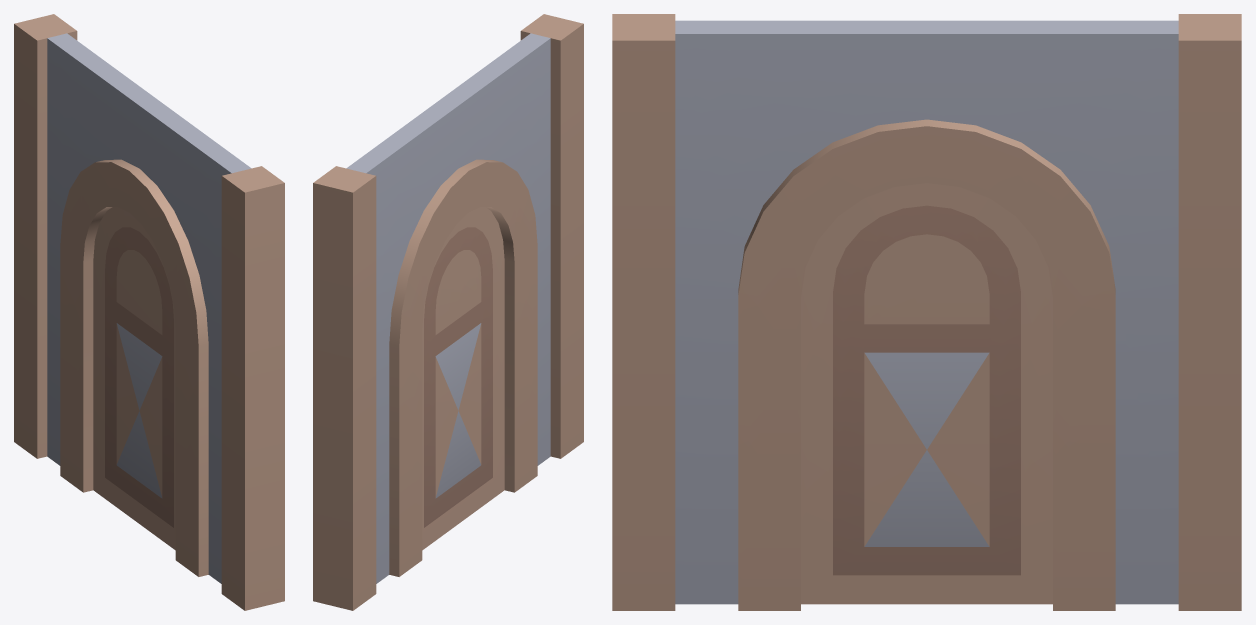
Rendered from wall-door.glb.
3 renders of one model, left to right at view 1: azimuth 30°, elevation 25°; view 2: azimuth 150°, elevation 25°; view 3: azimuth 270°, elevation 25°, orthographic. The views are drawn at different scales.
Parts seen in each view (by area): view 1: wall-door; view 2: wall-door; view 3: wall-door.
Boxes of the visible parts, x1,y1,x2,y2 form: wall-door: (14, 14, 284, 610); wall-door: (313, 14, 583, 610); wall-door: (612, 14, 1241, 610).
Size of the model in its own units: 0.1 by 1 by 1.
